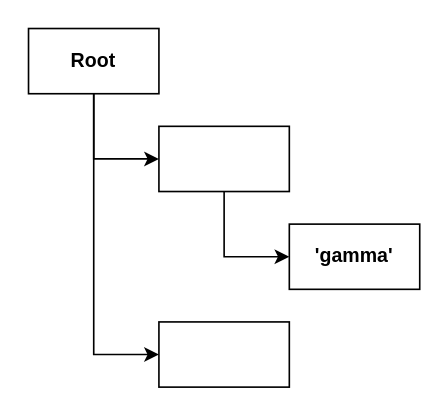
The diagram is 448 pixels wide and 416 high, and some of its shapes have lost their labels. Each missing label, with the box of its shape:
'alpha': (157, 125, 289, 192)
'beta': (157, 320, 289, 387)
